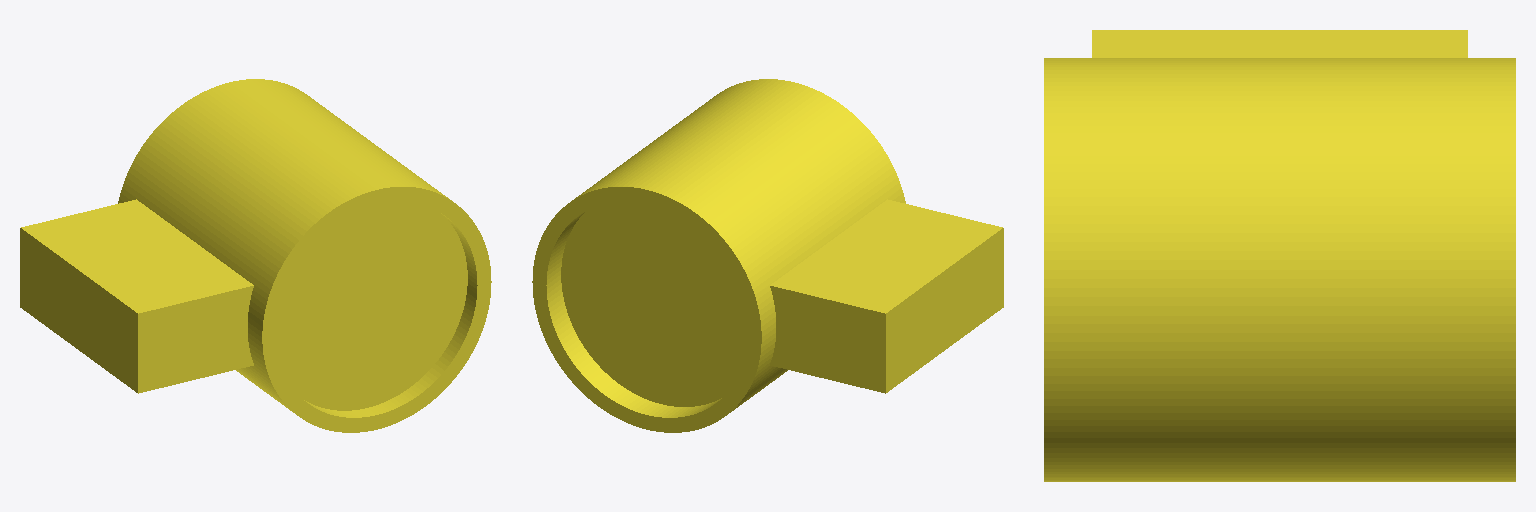
robot.urdf — ur5:
<?xml version="1.0" ?>
<!-- =================================================================================== -->
<!-- |    This document was autogenerated by xacro from ur5_robotiq85_gripper.xacro    | -->
<!-- |    EDITING THIS FILE BY HAND IS NOT RECOMMENDED                                 | -->
<!-- =================================================================================== -->
<robot name="ur5">
  <gazebo>
    <plugin filename="libgazebo_ros_control.so" name="ros_control">
      <!--robotNamespace>/</robotNamespace-->
      <!--robotSimType>gazebo_ros_control/DefaultRobotHWSim</robotSimType-->
    </plugin>
    <!--
    <plugin name="gazebo_ros_power_monitor_controller" filename="libgazebo_ros_power_monitor.so">
      <alwaysOn>true</alwaysOn>
      <updateRate>1.0</updateRate>
      <timeout>5</timeout>
      <powerStateTopic>power_state</powerStateTopic>
      <powerStateRate>10.0</powerStateRate>
      <fullChargeCapacity>87.78</fullChargeCapacity>     
      <dischargeRate>-474</dischargeRate>
      <chargeRate>525</chargeRate>
      <dischargeVoltage>15.52</dischargeVoltage>
      <chargeVoltage>16.41</chargeVoltage>
    </plugin>
-->
  </gazebo>
  <!-- measured from model -->
  <!--property name="shoulder_height" value="0.089159" /-->
  <!--property name="shoulder_offset" value="0.13585" /-->
  <!-- shoulder_offset - elbow_offset + wrist_1_length = 0.10915 -->
  <!--property name="upper_arm_length" value="0.42500" /-->
  <!--property name="elbow_offset" value="0.1197" /-->
  <!-- CAD measured -->
  <!--property name="forearm_length" value="0.39225" /-->
  <!--property name="wrist_1_length" value="0.093" /-->
  <!-- CAD measured -->
  <!--property name="wrist_2_length" value="0.09465" /-->
  <!-- In CAD this distance is 0.930, but in the spec it is 0.09465 -->
  <!--property name="wrist_3_length" value="0.0823" /-->
  <!-- manually measured -->
  <link name="base_link">
    <visual>
      <geometry>
        <mesh filename="package://robot_description/meshes/ur5/visual/base.dae"/>
      </geometry>
      <material name="LightGrey">
        <color rgba="0.7 0.7 0.7 1.0"/>
      </material>
    </visual>
    <collision>
      <geometry>
        <mesh filename="package://robot_description/meshes/ur5/collision/base.stl"/>
      </geometry>
    </collision>
    <inertial>
      <mass value="40.0"/>
      <origin rpy="0 0 0" xyz="0.0 0.0 0.0"/>
      <inertia ixx="0.17499993000000003" ixy="0.0" ixz="0.0" iyy="0.17499993000000003" iyz="0.0" izz="0.2"/>
    </inertial>
  </link>
  <joint name="shoulder_pan_joint" type="revolute">
    <parent link="base_link"/>
    <child link="shoulder_link"/>
    <origin rpy="0.0 0.0 0.0" xyz="0.0 0.0 0.089159"/>
    <axis xyz="0 0 1"/>
    <limit effort="150.0" lower="-3.141592653589793" upper="3.141592653589793" velocity="3.15"/>
    <dynamics damping="0.0" friction="0.0"/>
  </joint>
  <link name="shoulder_link">
    <visual>
      <geometry>
        <mesh filename="package://robot_description/meshes/ur5/visual/shoulder.dae"/>
      </geometry>
      <material name="LightGrey">
        <color rgba="0.7 0.7 0.7 1.0"/>
      </material>
    </visual>
    <collision>
      <geometry>
        <mesh filename="package://robot_description/meshes/ur5/collision/shoulder.stl"/>
      </geometry>
    </collision>
    <inertial>
      <mass value="3.7"/>
      <origin rpy="0 0 0" xyz="0.0 0.0 0.0"/>
      <inertia ixx="0.010267495893" ixy="0.0" ixz="0.0" iyy="0.010267495893" iyz="0.0" izz="0.00666"/>
    </inertial>
  </link>
  <joint name="shoulder_lift_joint" type="revolute">
    <parent link="shoulder_link"/>
    <child link="upper_arm_link"/>
    <origin rpy="0.0 1.5707963267948966 0.0" xyz="0.0 0.13585 0.0"/>
    <axis xyz="0 1 0"/>
    <limit effort="150.0" lower="-3.141592653589793" upper="3.141592653589793" velocity="3.15"/>
    <dynamics damping="0.0" friction="0.0"/>
  </joint>
  <link name="upper_arm_link">
    <visual>
      <geometry>
        <mesh filename="package://robot_description/meshes/ur5/visual/upperarm.dae"/>
      </geometry>
      <material name="LightGrey">
        <color rgba="0.7 0.7 0.7 1.0"/>
      </material>
    </visual>
    <collision>
      <geometry>
        <mesh filename="package://robot_description/meshes/ur5/collision/upperarm.stl"/>
      </geometry>
    </collision>
    <inertial>
      <mass value="8.393"/>
      <origin rpy="0 0 0" xyz="0.0 0.0 0.28"/>
      <inertia ixx="0.22689067591036005" ixy="0.0" ixz="0.0" iyy="0.22689067591036005" iyz="0.0" izz="0.0151074"/>
    </inertial>
  </link>
  <joint name="elbow_joint" type="revolute">
    <parent link="upper_arm_link"/>
    <child link="forearm_link"/>
    <origin rpy="0.0 0.0 0.0" xyz="0.0 -0.1197 0.425"/>
    <axis xyz="0 1 0"/>
    <limit effort="150.0" lower="-3.141592653589793" upper="3.141592653589793" velocity="3.15"/>
    <dynamics damping="0.0" friction="0.0"/>
  </joint>
  <link name="forearm_link">
    <visual>
      <geometry>
        <mesh filename="package://robot_description/meshes/ur5/visual/forearm.dae"/>
      </geometry>
      <material name="LightGrey">
        <color rgba="0.7 0.7 0.7 1.0"/>
      </material>
    </visual>
    <collision>
      <geometry>
        <mesh filename="package://robot_description/meshes/ur5/collision/forearm.stl"/>
      </geometry>
    </collision>
    <inertial>
      <mass value="2.275"/>
      <origin rpy="0 0 0" xyz="0.0 0.0 0.25"/>
      <inertia ixx="0.04944331355599999" ixy="0.0" ixz="0.0" iyy="0.04944331355599999" iyz="0.0" izz="0.004095"/>
    </inertial>
  </link>
  <joint name="wrist_1_joint" type="revolute">
    <parent link="forearm_link"/>
    <child link="wrist_1_link"/>
    <origin rpy="0.0 1.5707963267948966 0.0" xyz="0.0 0.0 0.39225"/>
    <axis xyz="0 1 0"/>
    <limit effort="28.0" lower="-3.141592653589793" upper="3.141592653589793" velocity="3.2"/>
    <dynamics damping="0.0" friction="0.0"/>
  </joint>
  <link name="wrist_1_link">
    <visual>
      <geometry>
        <mesh filename="package://robot_description/meshes/ur5/visual/wrist1.dae"/>
      </geometry>
      <material name="LightGrey">
        <color rgba="0.7 0.7 0.7 1.0"/>
      </material>
    </visual>
    <collision>
      <geometry>
        <mesh filename="package://robot_description/meshes/ur5/collision/wrist1.stl"/>
      </geometry>
    </collision>
    <inertial>
      <mass value="1.219"/>
      <origin rpy="0 0 0" xyz="0.0 0.0 0.0"/>
      <inertia ixx="0.11117275553087999" ixy="0.0" ixz="0.0" iyy="0.11117275553087999" iyz="0.0" izz="0.21942"/>
    </inertial>
  </link>
  <joint name="wrist_2_joint" type="revolute">
    <parent link="wrist_1_link"/>
    <child link="wrist_2_link"/>
    <origin rpy="0.0 0.0 0.0" xyz="0.0 0.093 0.0"/>
    <axis xyz="0 0 1"/>
    <limit effort="28.0" lower="-3.141592653589793" upper="3.141592653589793" velocity="3.2"/>
    <dynamics damping="0.0" friction="0.0"/>
  </joint>
  <link name="wrist_2_link">
    <visual>
      <geometry>
        <mesh filename="package://robot_description/meshes/ur5/visual/wrist2.dae"/>
      </geometry>
      <material name="LightGrey">
        <color rgba="0.7 0.7 0.7 1.0"/>
      </material>
    </visual>
    <collision>
      <geometry>
        <mesh filename="package://robot_description/meshes/ur5/collision/wrist2.stl"/>
      </geometry>
    </collision>
    <inertial>
      <mass value="1.219"/>
      <origin rpy="0 0 0" xyz="0.0 0.0 0.0"/>
      <inertia ixx="0.11117275553087999" ixy="0.0" ixz="0.0" iyy="0.11117275553087999" iyz="0.0" izz="0.21942"/>
    </inertial>
  </link>
  <joint name="wrist_3_joint" type="revolute">
    <parent link="wrist_2_link"/>
    <child link="wrist_3_link"/>
    <origin rpy="0.0 0.0 0.0" xyz="0.0 0.0 0.09465"/>
    <axis xyz="0 1 0"/>
    <limit effort="28.0" lower="-3.141592653589793" upper="3.141592653589793" velocity="3.2"/>
    <dynamics damping="0.0" friction="0.0"/>
  </joint>
  <link name="wrist_3_link">
    <visual>
      <geometry>
        <mesh filename="package://robot_description/meshes/ur5/visual/wrist3.dae"/>
      </geometry>
      <material name="LightGrey">
        <color rgba="0.7 0.7 0.7 1.0"/>
      </material>
    </visual>
    <collision>
      <geometry>
        <mesh filename="package://robot_description/meshes/ur5/collision/wrist3.stl"/>
      </geometry>
    </collision>
    <inertial>
      <mass value="0.1879"/>
      <origin rpy="0 0 0" xyz="0.0 0.0 0.0"/>
      <inertia ixx="0.017136473145408" ixy="0.0" ixz="0.0" iyy="0.017136473145408" iyz="0.0" izz="0.033822"/>
    </inertial>
  </link>
  <joint name="ee_fixed_joint" type="fixed">
    <parent link="wrist_3_link"/>
    <child link="ee_link"/>
    <origin rpy="0.0 0.0 1.5707963267948966" xyz="0.0 0.0823 0.0"/>
  </joint>
  <link name="ee_link">
    <collision>
      <geometry>
        <box size="0.01 0.01 0.01"/>
      </geometry>
      <origin rpy="0 0 0" xyz="-0.01 0 0"/>
    </collision>
  </link>
  <!-- ROS base_link to UR 'Base' Coordinates transform -->
  <link name="base"/>
  <joint name="base_link-base_fixed_joint" type="fixed">
    <!-- NOTE: this rotation is only needed as long as base_link itself is
                 not corrected wrt the real robot (ie: rotated over 180
                 degrees)
      -->
    <origin rpy="0 0 -3.141592653589793" xyz="0 0 0"/>
    <parent link="base_link"/>
    <child link="base"/>
  </joint>
  <!-- Frame coincident with all-zeros TCP on UR controller -->
  <link name="tool0"/>
  <joint name="wrist_3_link-tool0_fixed_joint" type="fixed">
    <origin rpy="-1.5707963267948966 0 0" xyz="0 0.0823 0"/>
    <parent link="wrist_3_link"/>
    <child link="tool0"/>
  </joint>
  <link name="world"/>
  <joint name="world_joint" type="fixed">
    <parent link="world"/>
    <child link="base_link"/>
    <origin rpy="0.0 0.0 0.0" xyz="0.0 0.0 0.0"/>
  </joint>
  <!-- Robotiq Coupler -->
  <!--  + Height added by the coupler: 8mm -->
  <!--  + Reference frame: at the middle (4mm) -->
  <link name="robotiq_coupler">
    <visual>
      <geometry>
        <!-- <mesh filename="package://robot_description/meshes/coupler.stl" /> -->
        <mesh filename="package://robot_description/meshes/suction_base.stl"/>
      </geometry>
    </visual>
    <collision>
      <geometry>
        <!-- <mesh filename="package://robot_description/meshes/coupler.stl" /> -->
        <mesh filename="package://robot_description/meshes/suction_base.stl"/>
      </geometry>
    </collision>
    <inertial>
      <origin rpy="0 0 0" xyz="2.073e-05   1.45286e-03  -1.1049e-03"/>
      <mass value="0.168"/>
      <inertia ixx="6.69695624e-05" ixy="5.21511788e-09" ixz="-2.74383009e-08" iyy="7.85088161e-05" iyz="5.41105193e-07" izz="1.41819717e-04"/>
    </inertial>
  </link>
  <joint name="robotiq_coupler_joint" type="fixed">
    <origin rpy="0 0 -1.5707963267948966" xyz="0 0 -0.003"/>
    <parent link="tool0"/>
    <child link="robotiq_coupler"/>
  </joint>
  <gazebo reference="robotiq_coupler">
    <mu1>0.9</mu1>
    <mu2>0.9</mu2>
  </gazebo>
  <!-- Equivalent to the OpenRAVE manipulator denso_robotiq_85_gripper -->
  <!-- <link name="denso_robotiq_85_gripper" /> -->
  <!-- <joint name="manipulator_dummy_joint" type="fixed"> -->
  <!--   <origin xyz="0 0 0.1441" rpy="0 0 0" /> -->
  <!--   <parent link="robotiq_coupler"/> -->
  <!--   <child link="denso_robotiq_85_gripper"/> -->
  <!-- </joint> -->
  <joint name="robotiq_85_base_joint" type="fixed">
    <parent link="robotiq_coupler"/>
    <child link="robotiq_85_base_link"/>
    <origin rpy="0 -1.5707963267948966 1.5707963267948966" xyz="0 0 0.08"/>
  </joint>
  <link name="robotiq_85_base_link">
    <visual>
      <geometry>
        <mesh filename="package://robot_description/meshes/ur5/visual/robotiq_85_base_link.dae"/>
      </geometry>
    </visual>
    <collision>
      <geometry>
        <mesh filename="package://robot_description/meshes/ur5/collision/robotiq_85_base_link.stl"/>
      </geometry>
    </collision>
    <inertial>
      <mass value="0.636951"/>
      <origin xyz="0.0 0.0 0.0"/>
      <inertia ixx="0.000380" ixy="0.000000" ixz="0.000000" iyx="0.000000" iyy="0.001110" iyz="0.000000" izx="0.000000" izy="0.000000" izz="0.001171"/>
    </inertial>
  </link>
  <joint name="robotiq_85_left_knuckle_joint" type="revolute">
    <parent link="robotiq_85_base_link"/>
    <child link="robotiq_85_left_knuckle_link"/>
    <axis xyz="0 0 1"/>
    <origin rpy="3.141592653589793 0.0 0.0" xyz="0.05490451627 0.03060114443 0.0"/>
    <limit effort="1000" lower="0.0" upper="0.80285" velocity="0.5"/>
  </joint>
  <joint name="robotiq_85_right_knuckle_joint" type="continuous">
    <parent link="robotiq_85_base_link"/>
    <child link="robotiq_85_right_knuckle_link"/>
    <axis xyz="0 0 1"/>
    <origin rpy="0.0 0.0 0.0" xyz="0.05490451627 -0.03060114443 0.0"/>
    <limit effort="1000" lower="-3.14" upper="3.14" velocity="100.0"/>
    <mimic joint="robotiq_85_left_knuckle_joint"/>
  </joint>
  <link name="robotiq_85_left_knuckle_link">
    <visual>
      <geometry>
        <mesh filename="package://robot_description/meshes/ur5/visual/robotiq_85_knuckle_link.dae"/>
      </geometry>
    </visual>
    <collision>
      <geometry>
        <mesh filename="package://robot_description/meshes/ur5/collision/robotiq_85_knuckle_link.stl"/>
      </geometry>
    </collision>
    <inertial>
      <mass value="0.018491"/>
      <origin xyz="0.0 0.0 0.0"/>
      <inertia ixx="0.000009" ixy="-0.000001" ixz="0.000000" iyx="-0.000001" iyy="0.000001" iyz="0.000000" izx="0.000000" izy="0.000000" izz="0.000010"/>
    </inertial>
  </link>
  <link name="robotiq_85_right_knuckle_link">
    <visual>
      <geometry>
        <mesh filename="package://robot_description/meshes/ur5/visual/robotiq_85_knuckle_link.dae"/>
      </geometry>
    </visual>
    <collision>
      <geometry>
        <mesh filename="package://robot_description/meshes/ur5/collision/robotiq_85_knuckle_link.stl"/>
      </geometry>
    </collision>
    <inertial>
      <mass value="0.018491"/>
      <origin xyz="0.0 0.0 0.0"/>
      <inertia ixx="0.000009" ixy="-0.000001" ixz="0.000000" iyx="-0.000001" iyy="0.000001" iyz="0.000000" izx="0.000000" izy="0.000000" izz="0.000010"/>
    </inertial>
  </link>
  <joint name="robotiq_85_left_finger_joint" type="fixed">
    <parent link="robotiq_85_left_knuckle_link"/>
    <child link="robotiq_85_left_finger_link"/>
    <origin rpy="0 0 0" xyz="-0.00408552455 -0.03148604435 0.0"/>
  </joint>
  <joint name="robotiq_85_right_finger_joint" type="fixed">
    <parent link="robotiq_85_right_knuckle_link"/>
    <child link="robotiq_85_right_finger_link"/>
    <origin rpy="0 0 0" xyz="-0.00408552455 -0.03148604435 0.0"/>
  </joint>
  <link name="robotiq_85_left_finger_link">
    <visual>
      <geometry>
        <mesh filename="package://robot_description/meshes/ur5/visual/robotiq_85_finger_link.dae"/>
      </geometry>
    </visual>
    <collision>
      <geometry>
        <mesh filename="package://robot_description/meshes/ur5/collision/robotiq_85_finger_link.stl"/>
      </geometry>
    </collision>
    <inertial>
      <mass value="0.027309"/>
      <origin xyz="0.0 0.0 0.0"/>
      <inertia ixx="0.000003" ixy="-0.000002" ixz="0.000000" iyx="-0.000002" iyy="0.000021" iyz="0.000000" izx="0.000000" izy="0.000000" izz="0.000020"/>
    </inertial>
  </link>
  <link name="robotiq_85_right_finger_link">
    <visual>
      <geometry>
        <mesh filename="package://robot_description/meshes/ur5/visual/robotiq_85_finger_link.dae"/>
      </geometry>
    </visual>
    <collision>
      <geometry>
        <mesh filename="package://robot_description/meshes/ur5/collision/robotiq_85_finger_link.stl"/>
      </geometry>
    </collision>
    <inertial>
      <mass value="0.027309"/>
      <origin xyz="0.0 0.0 0.0"/>
      <inertia ixx="0.000003" ixy="-0.000002" ixz="0.000000" iyx="-0.000002" iyy="0.000021" iyz="0.000000" izx="0.000000" izy="0.000000" izz="0.000020"/>
    </inertial>
  </link>
  <joint name="robotiq_85_left_inner_knuckle_joint" type="continuous">
    <parent link="robotiq_85_base_link"/>
    <child link="robotiq_85_left_inner_knuckle_link"/>
    <axis xyz="0 0 1"/>
    <origin rpy="3.141592653589793 0.0 0.0" xyz="0.06142 0.0127 0"/>
    <limit effort="0.1" lower="-3.14" upper="3.14" velocity="100.0"/>
    <mimic joint="robotiq_85_left_knuckle_joint" offset="0"/>
  </joint>
  <joint name="robotiq_85_right_inner_knuckle_joint" type="continuous">
    <parent link="robotiq_85_base_link"/>
    <child link="robotiq_85_right_inner_knuckle_link"/>
    <axis xyz="0 0 1"/>
    <origin rpy="0 0 0" xyz="0.06142 -0.0127 0"/>
    <limit effort="0.1" lower="-3.14" upper="3.14" velocity="100.0"/>
    <mimic joint="robotiq_85_left_knuckle_joint" offset="0"/>
  </joint>
  <link name="robotiq_85_left_inner_knuckle_link">
    <visual>
      <geometry>
        <mesh filename="package://robot_description/meshes/ur5/visual/robotiq_85_inner_knuckle_link.dae"/>
      </geometry>
    </visual>
    <collision>
      <geometry>
        <mesh filename="package://robot_description/meshes/ur5/collision/robotiq_85_inner_knuckle_link.stl"/>
      </geometry>
    </collision>
    <inertial>
      <mass value="0.029951"/>
      <origin xyz="0.0 0.0 0.0"/>
      <inertia ixx="0.000039" ixy="0.000000" ixz="0.000000" iyx="0.000000" iyy="0.000005" iyz="0.000000" izx="0.000000" izy="0.000000" izz="0.000035"/>
    </inertial>
  </link>
  <link name="robotiq_85_right_inner_knuckle_link">
    <visual>
      <geometry>
        <mesh filename="package://robot_description/meshes/ur5/visual/robotiq_85_inner_knuckle_link.dae"/>
      </geometry>
    </visual>
    <collision>
      <geometry>
        <mesh filename="package://robot_description/meshes/ur5/collision/robotiq_85_inner_knuckle_link.stl"/>
      </geometry>
    </collision>
    <inertial>
      <mass value="0.029951"/>
      <origin xyz="0.0 0.0 0.0"/>
      <inertia ixx="0.000039" ixy="0.000000" ixz="0.000000" iyx="0.000000" iyy="0.000005" iyz="0.000000" izx="0.000000" izy="0.000000" izz="0.000035"/>
    </inertial>
  </link>
  <joint name="robotiq_85_left_finger_tip_joint" type="continuous">
    <parent link="robotiq_85_left_inner_knuckle_link"/>
    <child link="robotiq_85_left_finger_tip_link"/>
    <axis xyz="0 0 1"/>
    <origin rpy="0.0 0.0 0.0" xyz="0.04303959807 -0.03759940821 0.0"/>
    <limit effort="0.1" lower="-3.14" upper="3.14" velocity="100.0"/>
    <mimic joint="robotiq_85_left_knuckle_joint" multiplier="-1"/>
  </joint>
  <joint name="robotiq_85_right_finger_tip_joint" type="continuous">
    <parent link="robotiq_85_right_inner_knuckle_link"/>
    <child link="robotiq_85_right_finger_tip_link"/>
    <axis xyz="0 0 1"/>
    <origin rpy="0.0 0.0 0.0" xyz="0.04303959807 -0.03759940821  0.0"/>
    <limit effort="0.1" lower="-3.14" upper="3.14" velocity="100.0"/>
    <mimic joint="robotiq_85_left_knuckle_joint" multiplier="-1"/>
  </joint>
  <link name="robotiq_85_left_finger_tip_link">
    <visual>
      <geometry>
        <mesh filename="package://robot_description/meshes/ur5/visual/robotiq_85_finger_tip_link.dae"/>
      </geometry>
    </visual>
    <collision>
      <geometry>
        <mesh filename="package://robot_description/meshes/ur5/collision/robotiq_85_finger_tip_link.stl"/>
      </geometry>
    </collision>
    <inertial>
      <mass value="0.019555"/>
      <origin xyz="0.0 0.0 0.0"/>
      <inertia ixx="0.000002" ixy="0.000000" ixz="0.000000" iyx="0.000000" iyy="0.000005" iyz="0.000000" izx="0.000000" izy="0.000000" izz="0.000006"/>
    </inertial>
  </link>
  <link name="robotiq_85_right_finger_tip_link">
    <visual>
      <geometry>
        <mesh filename="package://robot_description/meshes/ur5/visual/robotiq_85_finger_tip_link.dae"/>
      </geometry>
    </visual>
    <collision>
      <geometry>
        <mesh filename="package://robot_description/meshes/ur5/collision/robotiq_85_finger_tip_link.stl"/>
      </geometry>
    </collision>
    <inertial>
      <mass value="0.019555"/>
      <origin xyz="0.0 0.0 0.0"/>
      <inertia ixx="0.000002" ixy="0.000000" ixz="0.000000" iyx="0.000000" iyy="0.000005" iyz="0.000000" izx="0.000000" izy="0.000000" izz="0.000006"/>
    </inertial>
  </link>
  <!-- Improve grasping physics -->
  <gazebo reference="robotiq_85_left_finger_tip_link">
    <kp>1000000.0</kp>
    <kd>1.0</kd>
    <mu1>1.0</mu1>
    <mu2>1.0</mu2>
    <minDepth>0.001</minDepth>
  </gazebo>
  <gazebo reference="robotiq_85_right_finger_tip_link">
    <kp>1000000.0</kp>
    <kd>1.0</kd>
    <mu1>1.0</mu1>
    <mu2>1.0</mu2>
    <minDepth>0.001</minDepth>
  </gazebo>
</robot>

--- Render facts (derived) ---
Views: 3 orthographic renders of the robot side by side, from view 1: azimuth 30°, elevation 25°; view 2: azimuth 150°, elevation 25°; view 3: azimuth 270°, elevation 25°.
Robot: ur5 — 21 links, 20 joints (7 revolute, 5 continuous, 8 fixed); root link world; default pose: every joint at zero.
Links seen in each view (by area): view 1: robotiq_coupler; view 2: robotiq_coupler; view 3: robotiq_coupler.
Link boxes in pixels (x1=…): robotiq_coupler: x1=20, y1=79, x2=491, y2=432; robotiq_coupler: x1=532, y1=79, x2=1003, y2=432; robotiq_coupler: x1=1044, y1=30, x2=1515, y2=481.
Size in the robot's own frame: 0.133 by 0.1 by 0.09 metres.
Meshes: 13 distinct files referenced, 1 mesh visuals loaded (1 binary STL); not drawn: 16 (reference not matched to a file when rendering).